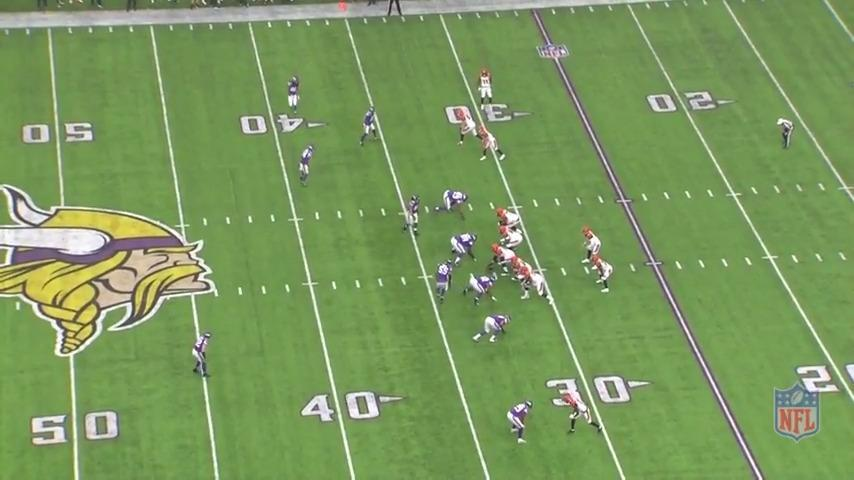player: (556, 386, 604, 437), (470, 311, 511, 345), (475, 124, 508, 166), (459, 274, 499, 308), (506, 399, 534, 447), (520, 267, 555, 304), (434, 188, 474, 219), (190, 329, 212, 381), (456, 110, 485, 148), (449, 231, 480, 265), (583, 224, 605, 271), (433, 258, 455, 304), (592, 252, 615, 295), (404, 192, 424, 240), (488, 243, 516, 277), (360, 106, 382, 148), (474, 66, 495, 110), (296, 143, 315, 188), (513, 256, 536, 293), (497, 205, 525, 234), (500, 225, 527, 255), (286, 75, 304, 119)
ref: (774, 115, 800, 153), (383, 0, 405, 19)
